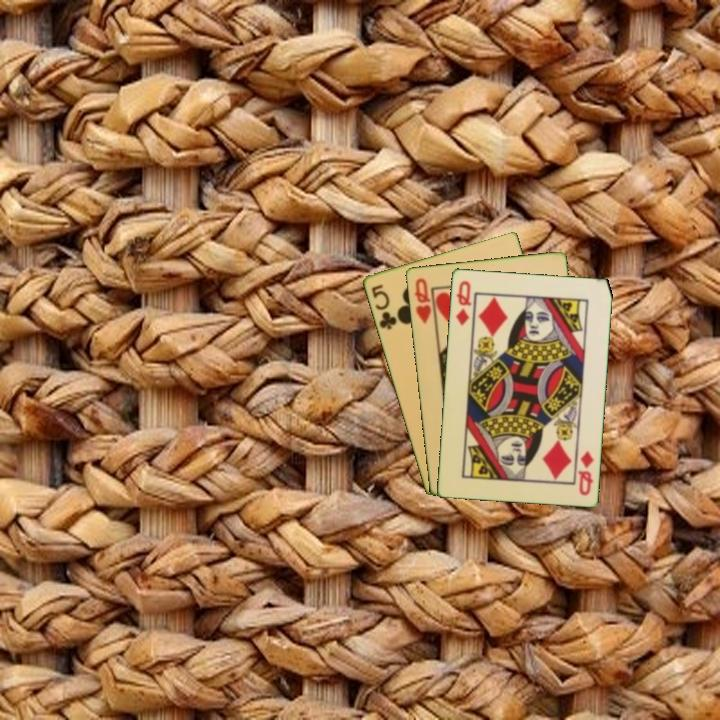5c: (368, 280, 399, 332)
Qd: (452, 277, 474, 328), (574, 447, 596, 498)
Qh: (410, 274, 434, 326)
